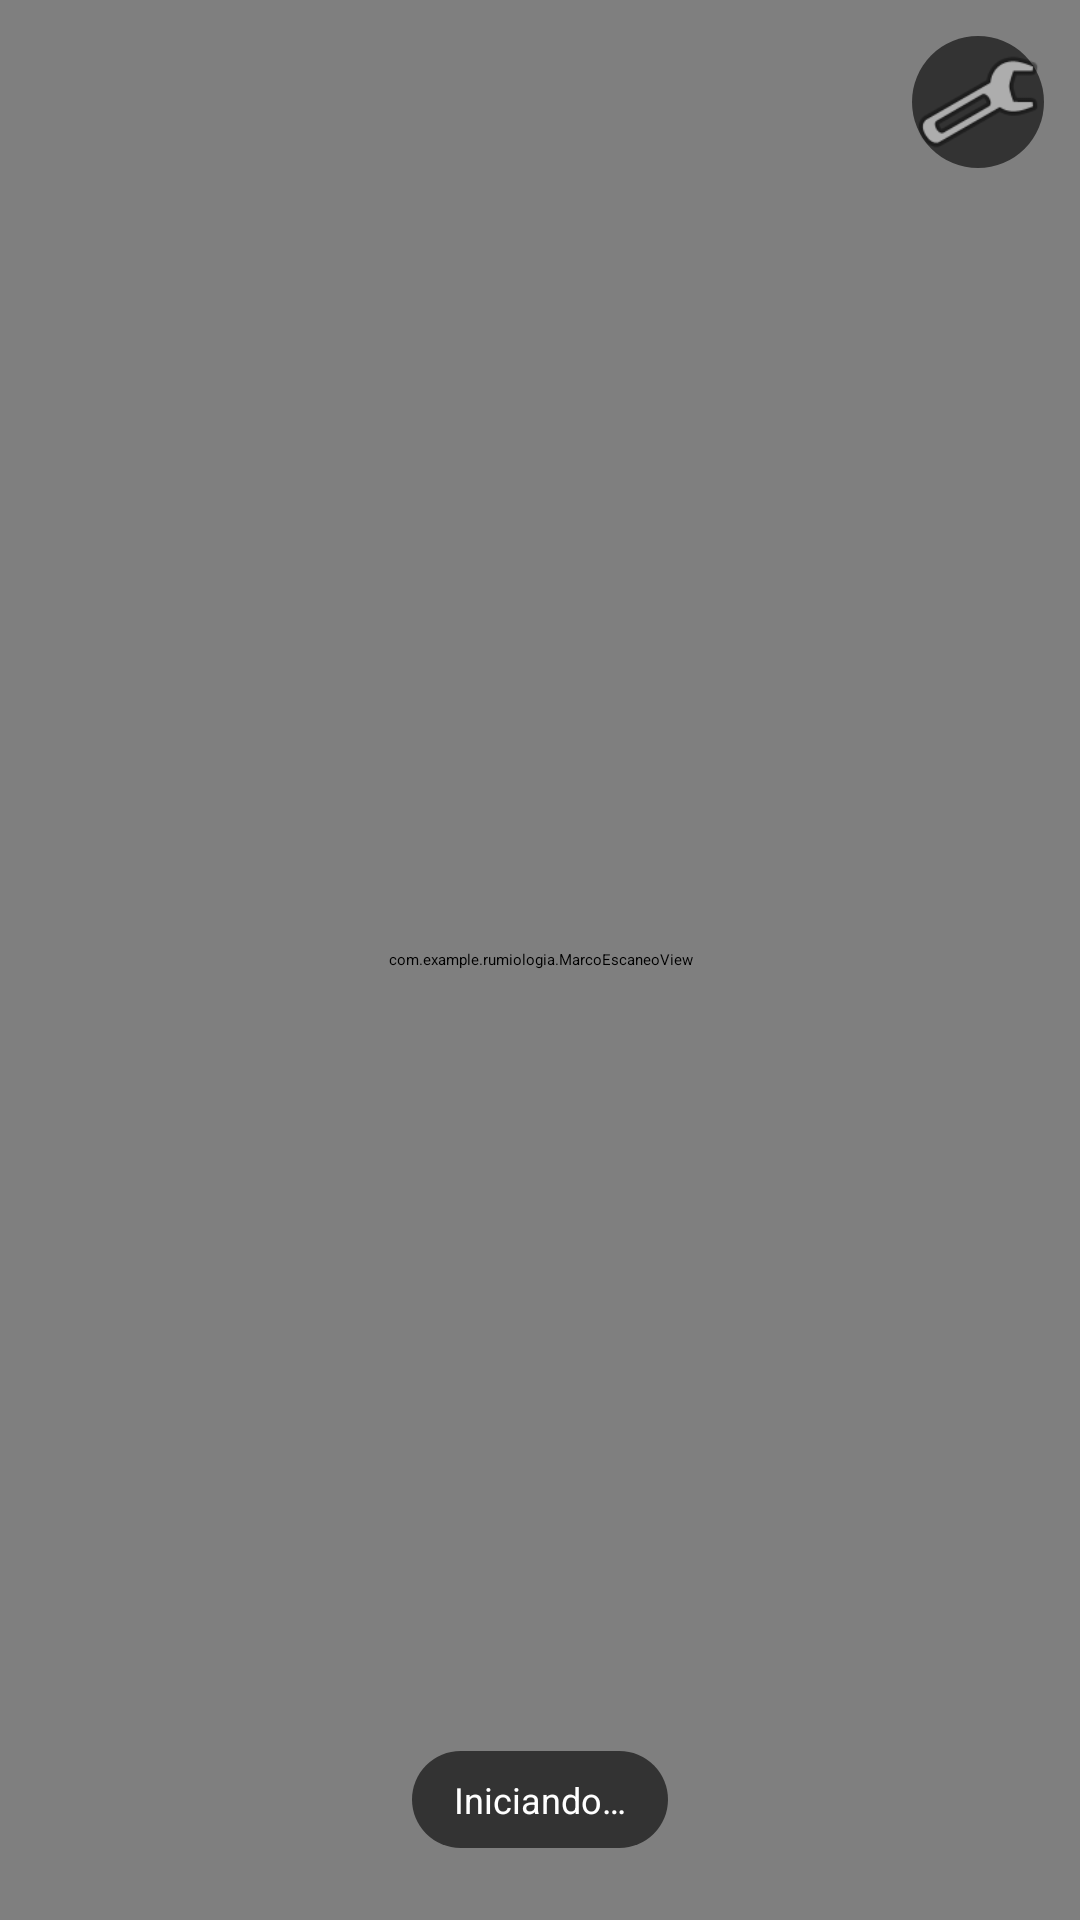

Screen size 1080x1920. Icon name, then its center in pixels as point (x, y):
Ajustes: point (978, 102)
